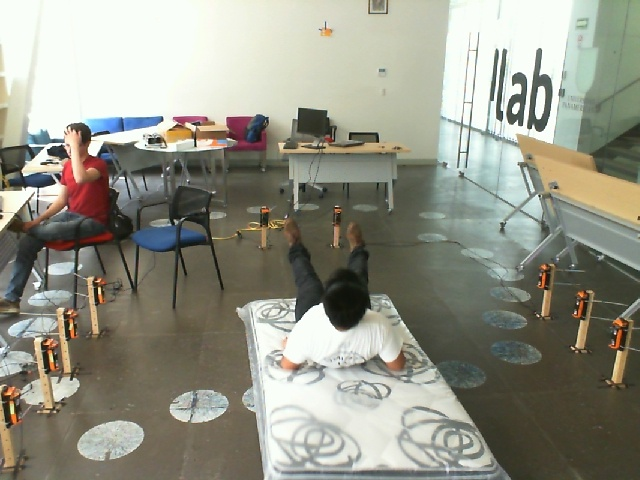fall: (270, 217, 410, 381)
not_fallen: (0, 118, 118, 325)
